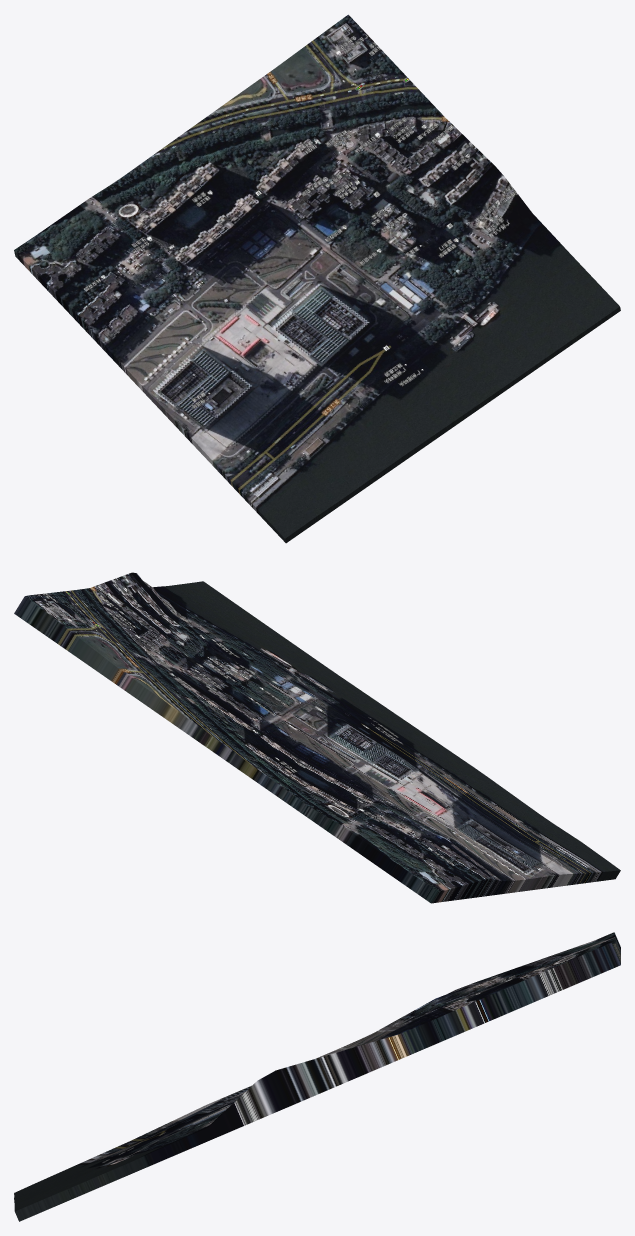
3 views of the same model, one above another, from view 1: azimuth 30°, elevation 25°; view 2: azimuth 150°, elevation 25°; view 3: azimuth 270°, elevation 25° (orthographic). The views are drawn at different scales.
Visible parts, largest first — view 1: 0_13_21; view 2: 0_13_21; view 3: 0_13_21.
Boxes of the visible parts, <box> form: 0_13_21: <box>14,14,620,543</box>; 0_13_21: <box>14,572,620,903</box>; 0_13_21: <box>14,932,620,1221</box>.
Bounding box in the file's own units: 598 × 447 × 547.
1 material, 1 textured.
